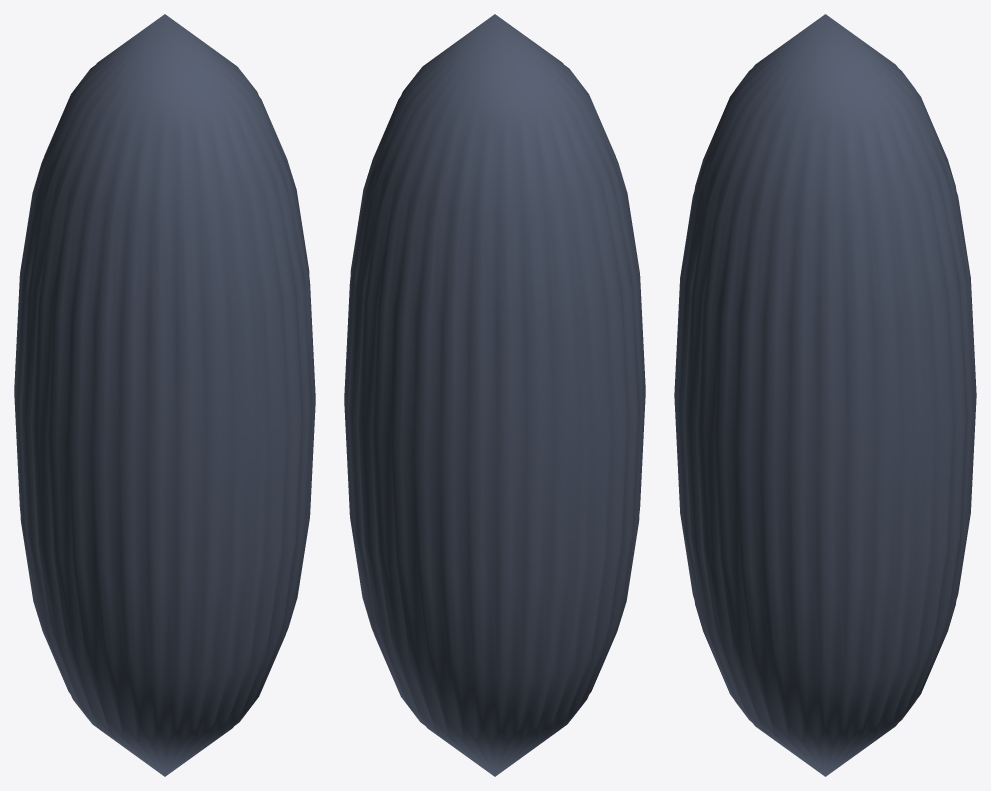
The model's file is outfit_cyberpunk_suit.glb.
3 views of the same model, side by side, from view 1: azimuth 30°, elevation 25°; view 2: azimuth 150°, elevation 25°; view 3: azimuth 270°, elevation 25° (orthographic).
Parts seen in each view (by area): view 1: Cylinder; view 2: Cylinder; view 3: Cylinder.
Boxes of the visible parts, x1,y1,x2,y2 form: Cylinder: (14,14,315,776); Cylinder: (344,14,645,776); Cylinder: (674,14,976,776).
Size of the model in its own units: 0.4141 by 1.15 by 0.4141.
